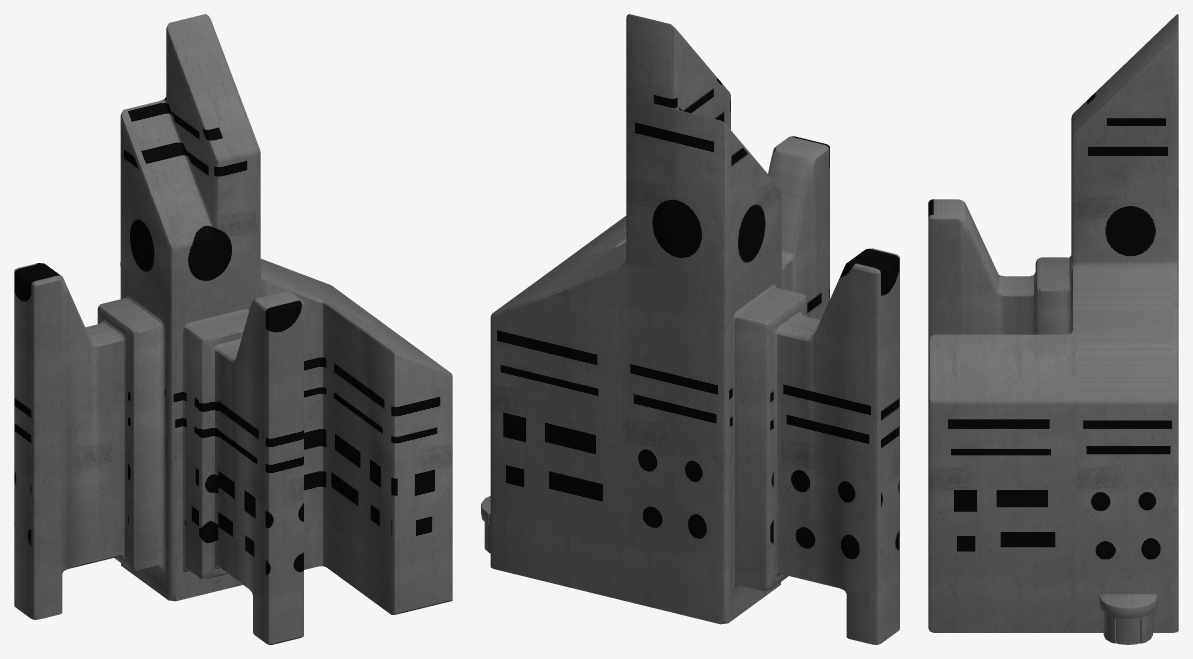
File: AndyGebouw3.fbx
3 views of the same model, side by side, from view 1: azimuth 30°, elevation 25°; view 2: azimuth 150°, elevation 25°; view 3: azimuth 270°, elevation 25° (orthographic). The views are drawn at different scales.
Parts seen in each view (by area): view 1: Cyber Skyscraper.009; view 2: Cyber Skyscraper.009; view 3: Cyber Skyscraper.009.
Boxes of the visible parts, box(x1,y1,x2,y2) form: Cyber Skyscraper.009: box(14, 14, 452, 644); Cyber Skyscraper.009: box(481, 14, 899, 644); Cyber Skyscraper.009: box(928, 14, 1178, 644).
Size of the model in its own units: 4820 by 6712 by 2832.
